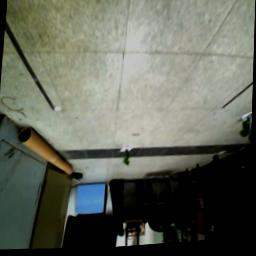herb: (241, 120, 253, 147), (125, 152, 133, 170)
